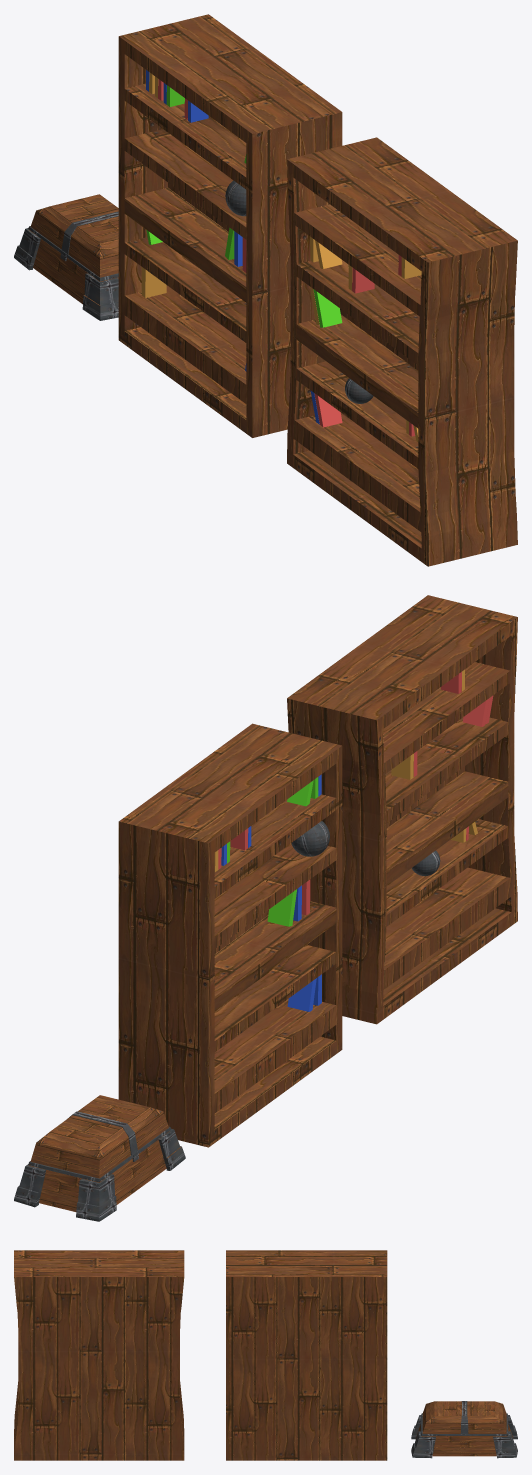
Rendered from шкаф сундук книги .fbx.
3 views of the same model, one above another, from view 1: azimuth 30°, elevation 25°; view 2: azimuth 150°, elevation 25°; view 3: azimuth 270°, elevation 25° (orthographic). The views are drawn at different scales.
Visible parts, largest first — view 1: щкаф 1, шкаф 2, сундук, Cube.005; view 2: шкаф 2, щкаф 1, сундук, Sphere.001; view 3: щкаф 1, шкаф 2, сундук.
Part boxes in pixels (x1,y1,x2,y2): щкаф 1: (287,137,517,566); шкаф 2: (118,14,342,437); сундук: (14,194,118,320); Cube.005: (313,289,342,327); шкаф 2: (118,723,342,1147); щкаф 1: (287,595,517,1024); сундук: (14,1095,185,1221); Sphere.001: (291,821,329,856); щкаф 1: (14,1250,184,1460); шкаф 2: (226,1250,387,1460); сундук: (411,1401,517,1458).
Bounding box in the file's own units: 210 × 646 × 1607.
